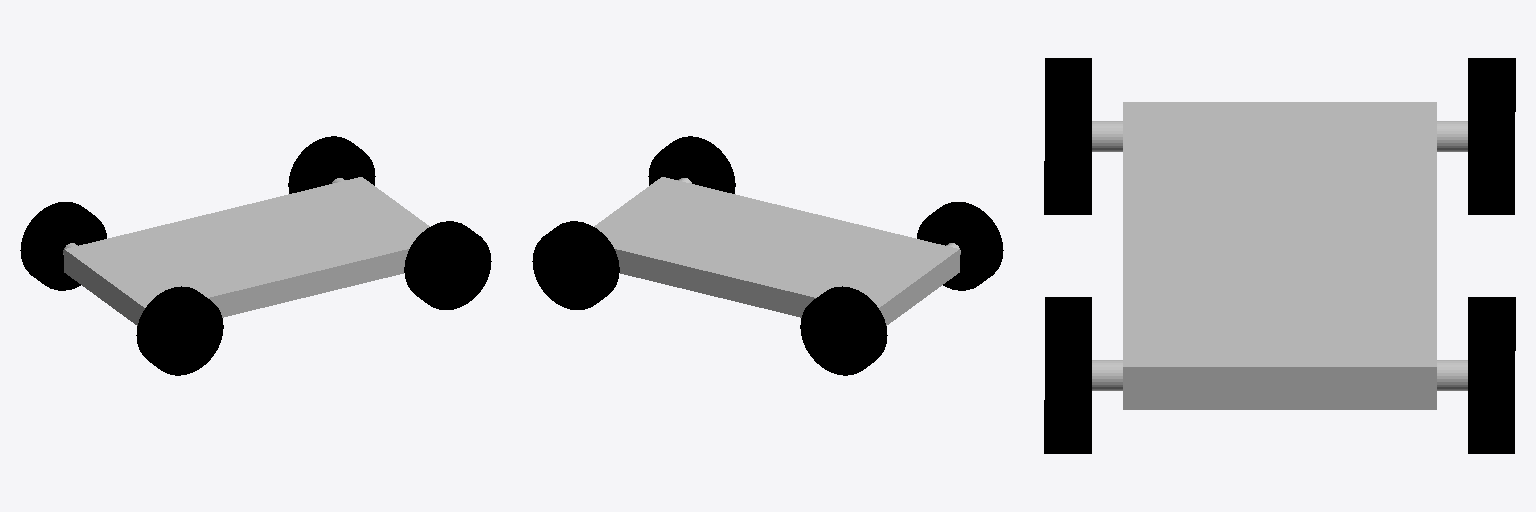
robot.urdf — joint1:
<?xml version="1.0" encoding="UTF-8" ?>
<robot name="joint1">

    <material name="black">
        <color rgba="0 0 0 0.8"/>
    </material>

    <material name="grey">
        <color rgba="0.8 0.8 0.8 0.8"/>
    </material>

    <!-- link -->
    <link name="base">
        <visual>
            <geometry>
                <!-- x y z -->
                <box size="0.4 0.2 0.03"/>
            </geometry>
            <material name="grey"/>
        </visual>
    </link>

    <link name="front">
        <visual>
            <origin xyz="0 0 0" rpy="1.57 0 0"/>
            <geometry>
                <cylinder length="0.24" radius="0.01"/>
            </geometry>
            <material name="grey"/>
        </visual>
    </link>

    <joint name="joint0" type="fixed">
        <!-- who root -->
        <parent link="base"/>
        <!-- child -->
        <child link="front"/>
        <origin xyz="0.18 0 0" rpy="0 0 0"/>
    </joint>

    <link name="back">
        <visual>
            <origin xyz="0 0 0" rpy="1.57 0 0"/>
            <geometry>
                <cylinder length="0.24" radius="0.01"/>
            </geometry>
            <material name="grey"/>
        </visual>
    </link>

    <joint name="joint1" type="fixed">
        <!-- who root -->
        <parent link="base"/>
        <!-- child -->
        <child link="back"/>
        <origin xyz="-0.18 0 0" rpy="0 0 0"/>
    </joint>

    <link name="wheel_front_left">
        <visual>
            <origin xyz="0 0.015 0" rpy="1.57 0 0"/>
            <geometry>
                <cylinder length="0.03" radius="0.05"/>
            </geometry>
            <material name="black"/>
        </visual>
    </link>

    <joint name="joint2" type="continuous">
        <parent link="front"/>
        <child link="wheel_front_left"/>
        <origin xyz="0 0.12 0" rpy="0 0 0"/>
        <axis xyz="0 1 0"/>
    </joint>

    <link name="wheel_front_right">
        <visual>
            <origin xyz="0 -0.015 0" rpy="1.57 0 0"/>
            <geometry>
                <cylinder length="0.03" radius="0.05"/>
            </geometry>
            <material name="black"/>
        </visual>
    </link>

    <joint name="joint3" type="continuous">
        <parent link="front"/>
        <child link="wheel_front_right"/>
        <origin xyz="0 -0.12 0" rpy="0 0 0"/>
        <axis xyz="0 1 0"/>
    </joint>


    <link name="wheel_back_left">
        <visual>
            <origin xyz="0 0.015 0" rpy="1.57 0 0"/>
            <geometry>
                <cylinder length="0.03" radius="0.05"/>
            </geometry>
            <material name="black"/>
        </visual>
    </link>

    <joint name="joint4" type="continuous">
        <parent link="back"/>
        <child link="wheel_back_left"/>
        <origin xyz="0 0.12 0" rpy="0 0 0"/>
        <axis xyz="0 1 0"/>
    </joint>

    <link name="wheel_back_right">
        <visual>
            <origin xyz="0 -0.015 0" rpy="1.57 0 0"/>
            <geometry>
                <cylinder length="0.03" radius="0.05"/>
            </geometry>
            <material name="black"/>
        </visual>
    </link>

    <joint name="joint5" type="continuous">
        <parent link="back"/>
        <child link="wheel_back_right"/>
        <origin xyz="0 -0.12 0" rpy="0 0 0"/>
        <axis xyz="0 1 0"/>
    </joint>

</robot>

--- Facts derived from the render (not from the file) ---
The picture shows the robot from 3 angles, left to right: view 1: azimuth 30°, elevation 25°; view 2: azimuth 150°, elevation 25°; view 3: azimuth 270°, elevation 25°; orthographic projection.
Model joint1 with 7 links and 6 joints (4 continuous, 2 fixed), rooted at base, posed every joint at zero.
Visible links, largest first — view 1: base, wheel_front_right, wheel_back_right, wheel_back_left, wheel_front_left; view 2: base, wheel_front_left, wheel_back_left, wheel_back_right, wheel_front_right; view 3: base, wheel_front_left, wheel_front_right, wheel_back_left, wheel_back_right, front, back.
Link boxes in pixels (box(x1,y1,x2,y2)): base: box(64, 177, 429, 325); wheel_front_right: box(404, 221, 491, 309); wheel_back_right: box(136, 286, 223, 375); wheel_back_left: box(20, 202, 106, 290); wheel_front_left: box(288, 136, 375, 193); base: box(594, 177, 959, 325); wheel_front_left: box(532, 221, 619, 309); wheel_back_left: box(800, 286, 887, 375); wheel_back_right: box(917, 202, 1003, 290); wheel_front_right: box(648, 136, 735, 193); base: box(1123, 102, 1436, 409); wheel_front_left: box(1468, 297, 1515, 453); wheel_front_right: box(1044, 297, 1091, 453); wheel_back_left: box(1468, 58, 1515, 214); wheel_back_right: box(1044, 58, 1091, 214); front: box(1092, 360, 1467, 390); back: box(1092, 121, 1467, 151).
Bounding box of the posed robot: 0.46 × 0.3001 × 0.1 m (x, y, z).
Geometry: primitives only (box / cylinder / sphere), no mesh files.
